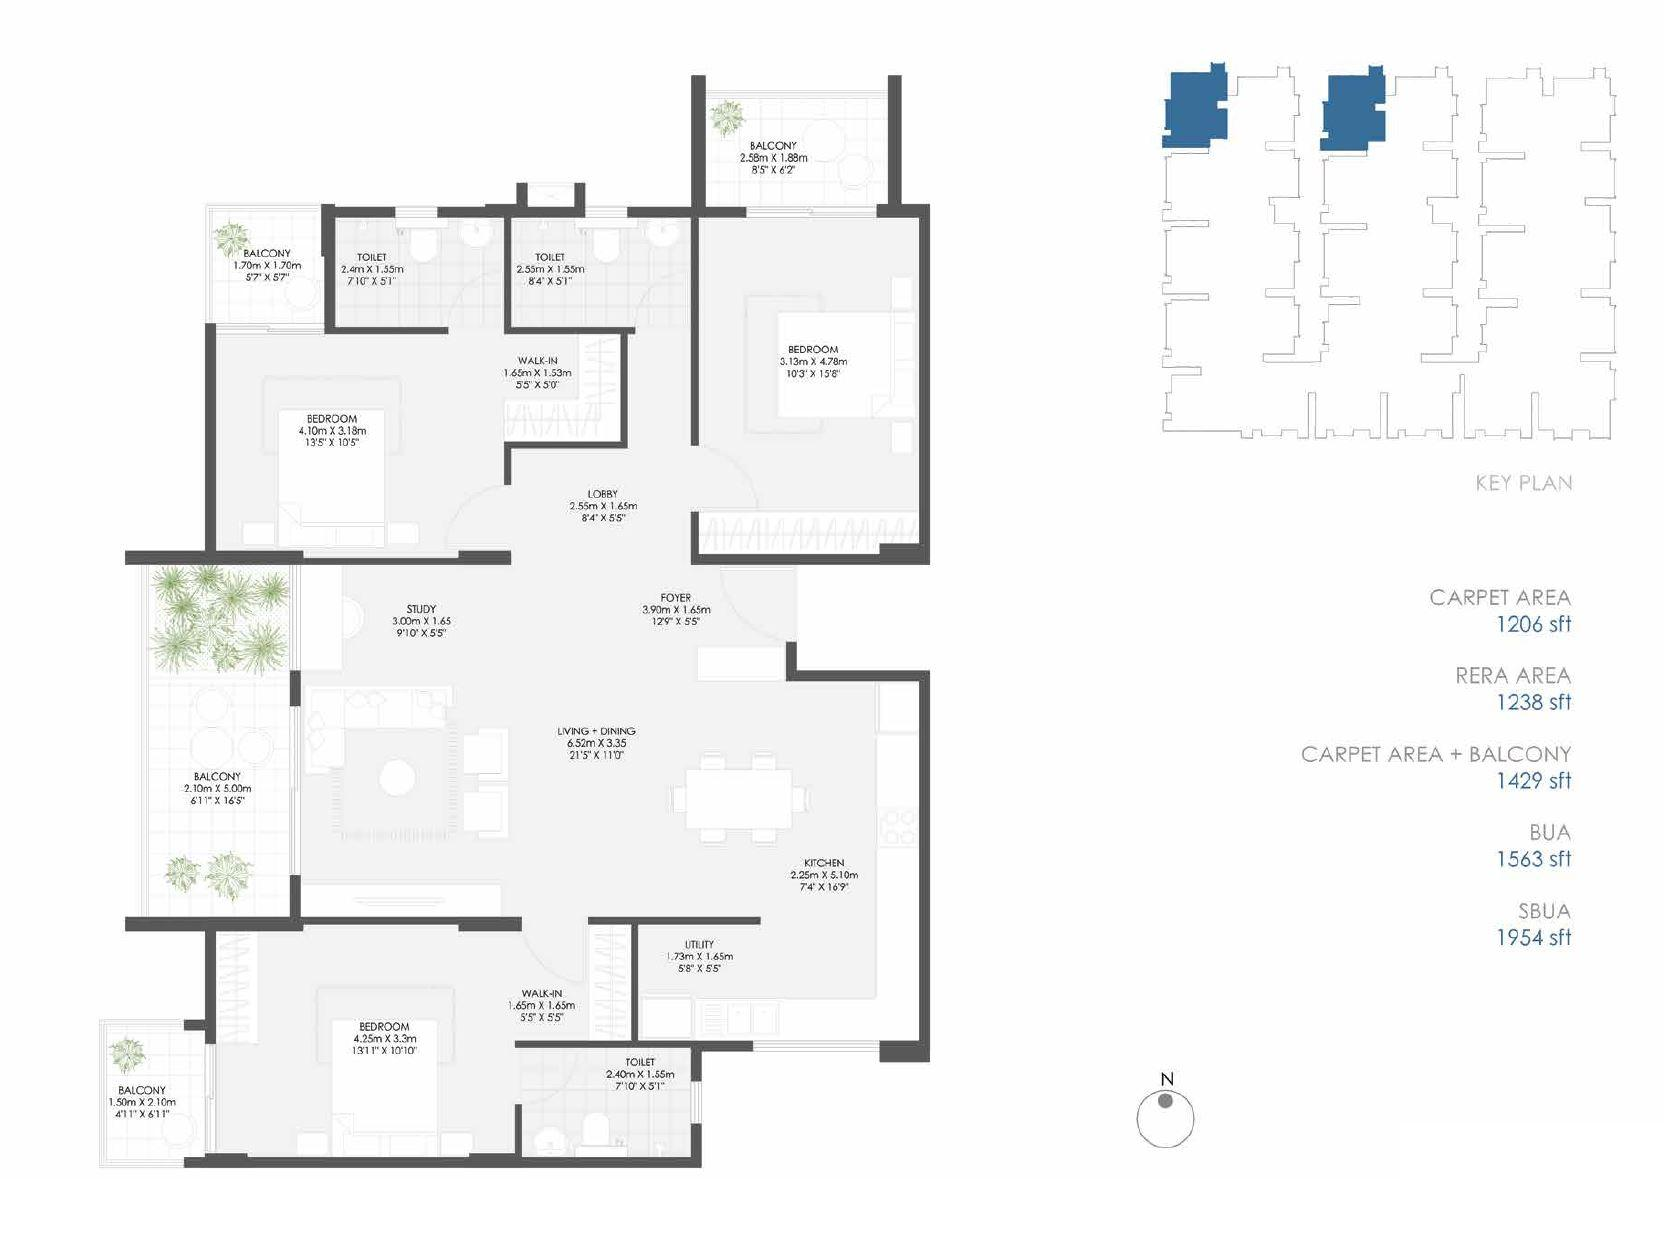Balcony: (139, 561, 292, 920), (697, 88, 888, 208), (209, 210, 326, 329)
Bed: (277, 408, 386, 551), (778, 313, 918, 420), (334, 1016, 438, 1155)
Bedroom: (700, 217, 916, 555), (212, 926, 516, 1156), (210, 334, 505, 555)
Dining Room: (620, 683, 839, 907)
Dining table: (657, 745, 823, 851)
Foyer: (510, 563, 787, 669), (510, 448, 687, 557)
Kitchen: (768, 683, 920, 1043)
Living Room: (296, 680, 614, 912)
Sofa: (304, 686, 453, 729), (304, 689, 348, 773), (464, 786, 509, 838), (462, 730, 505, 776)
Wardrobe: (701, 512, 918, 552), (210, 932, 260, 1049), (503, 398, 621, 442), (588, 925, 630, 1039), (578, 334, 620, 447), (692, 650, 784, 682)
balcoa: (103, 1027, 203, 1163)
commode: (591, 226, 626, 265), (410, 229, 436, 262), (587, 1110, 609, 1149)
door: (718, 565, 801, 647), (436, 489, 513, 555), (517, 915, 587, 984), (690, 447, 766, 509), (626, 266, 692, 331), (517, 1047, 586, 1108), (448, 270, 503, 334), (743, 203, 877, 225), (216, 317, 327, 339), (199, 1039, 220, 1156)
fridge: (875, 683, 920, 734)
kitchen-slab: (878, 738, 918, 1039), (697, 999, 918, 1038)
sink: (701, 1002, 766, 1036), (643, 218, 679, 247), (533, 1127, 565, 1155), (460, 222, 492, 243)
stove: (873, 808, 917, 851)
study: (299, 563, 507, 672)
toilet: (518, 1046, 696, 1156), (510, 216, 687, 324), (330, 216, 499, 325)
tv: (349, 889, 466, 915)
utility: (636, 923, 766, 1039)
walkin: (516, 917, 634, 1036), (504, 334, 623, 443), (505, 331, 620, 440)
washing-machine: (640, 995, 695, 1042)
